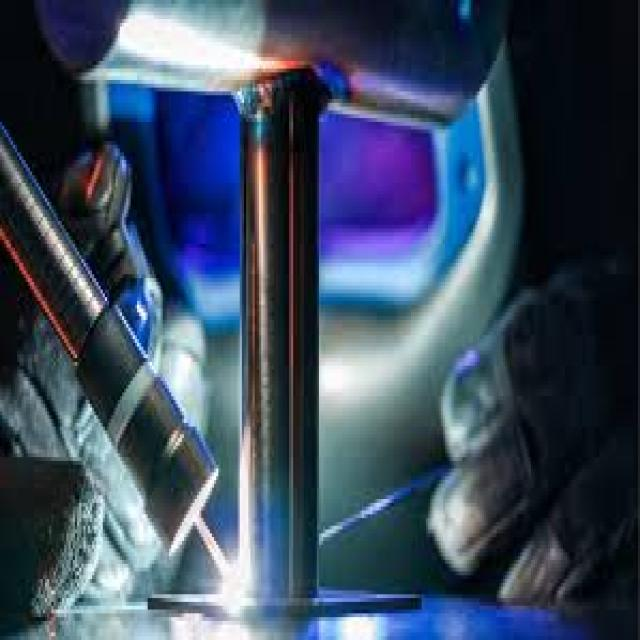welding: (219, 560, 250, 614)
